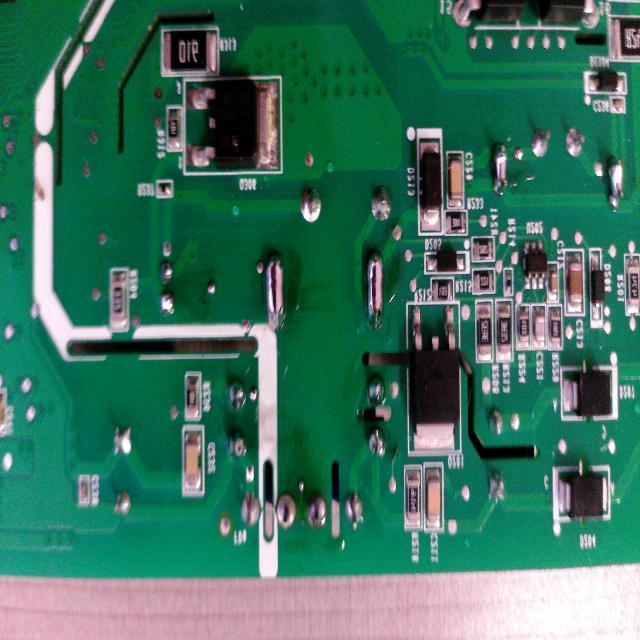Soldering bridge: (361, 242, 387, 339), (261, 246, 286, 332), (601, 144, 626, 216), (492, 136, 510, 202)
